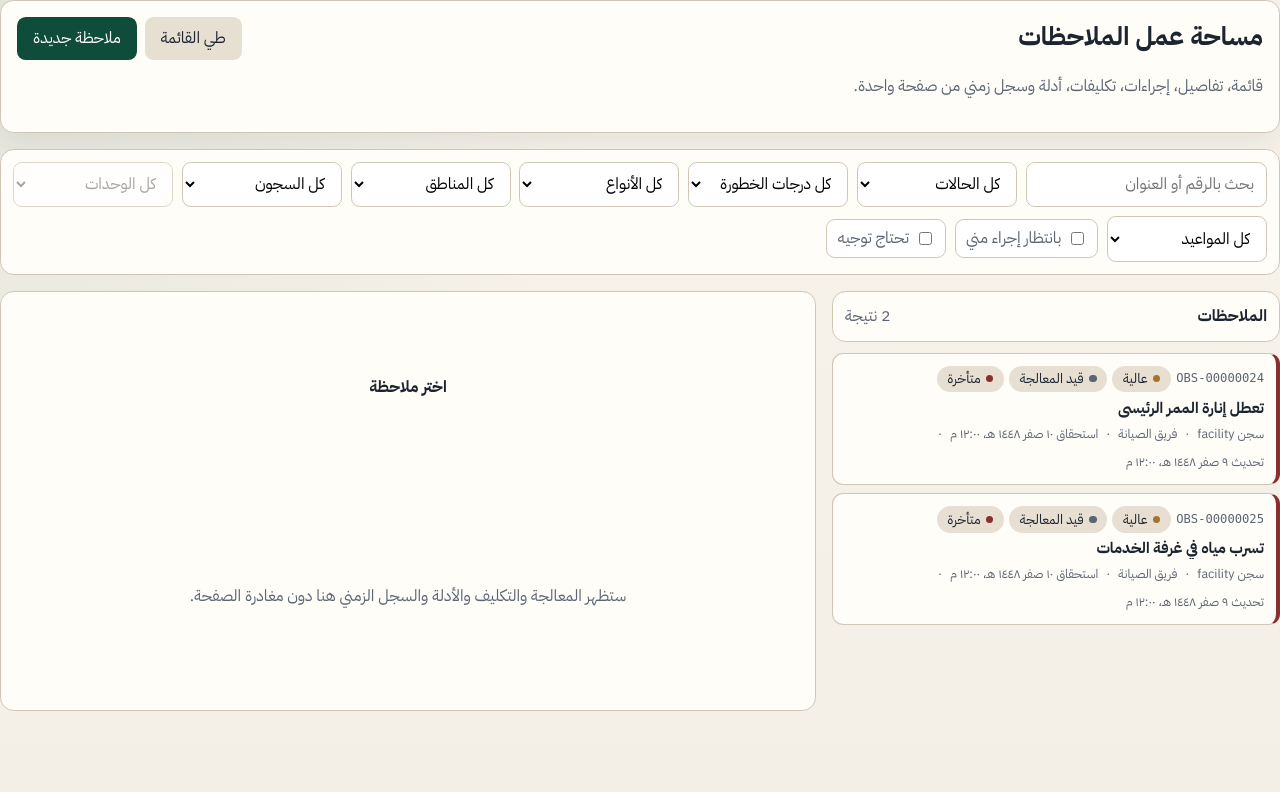
Test: ObservationWorkspacePage › navigates to the previous/next note within the currently loaded list window
What coordinates should you click on to do the following:
click the button "OBS-00000024"
I would click on:
 (1220, 378)
Its box is [832,352,1279,484].
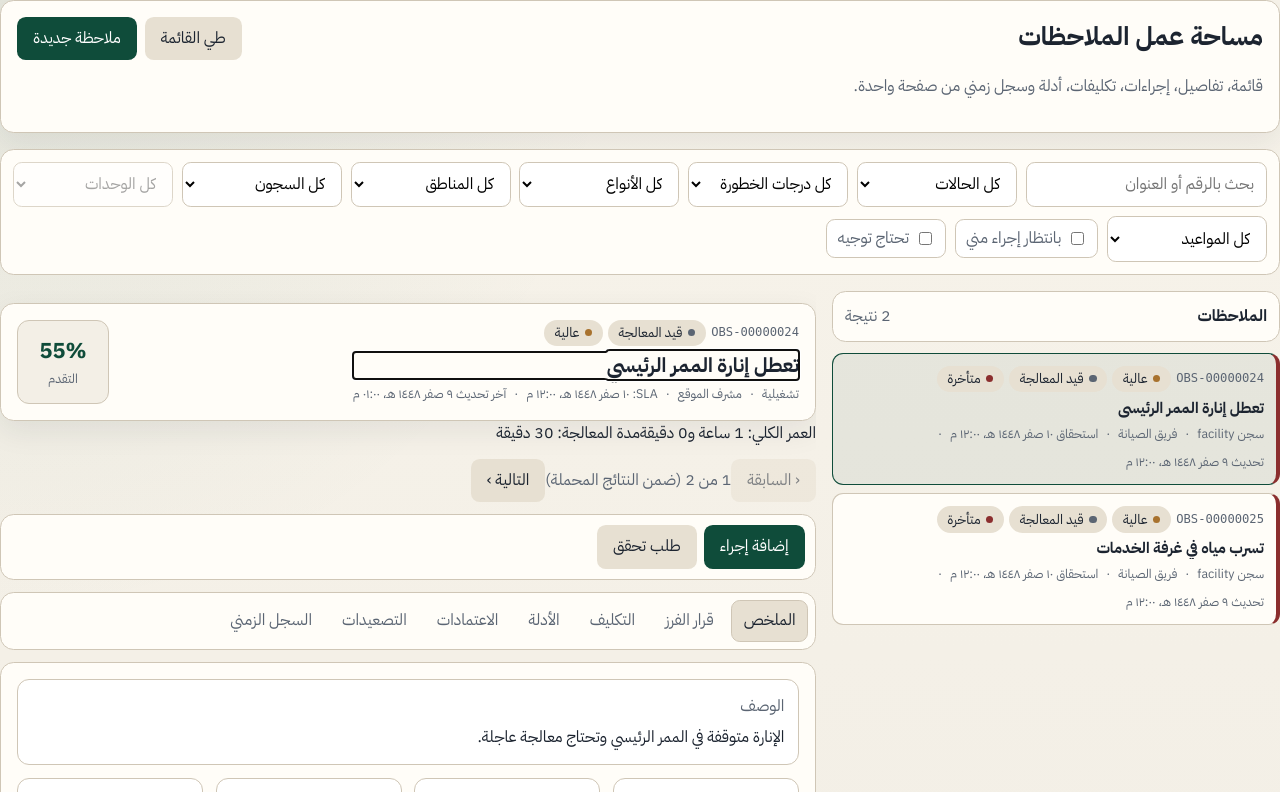
Result: the heading "تعطل إنارة الممر الرئيسي" is shown at [607,350,799,380]
Result: the button "‹ السابقة" is disabled at [731,459,816,502]
What coordinates should you click on to do the following:
click the button "التالية ›"
I would click on:
 (508, 480)
Its box is [471,459,545,502].
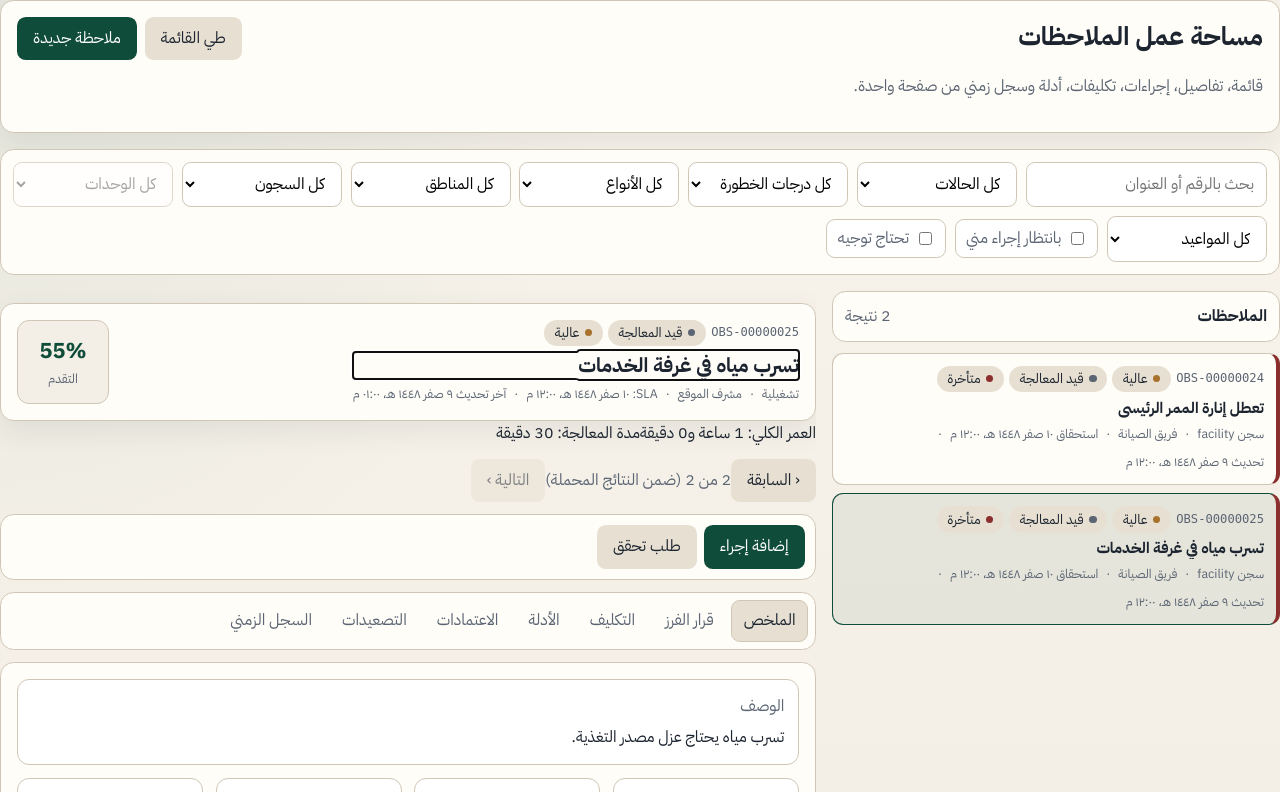
Result: the heading "تسرب مياه في غرفة الخدمات" is shown at [578,350,799,380]
